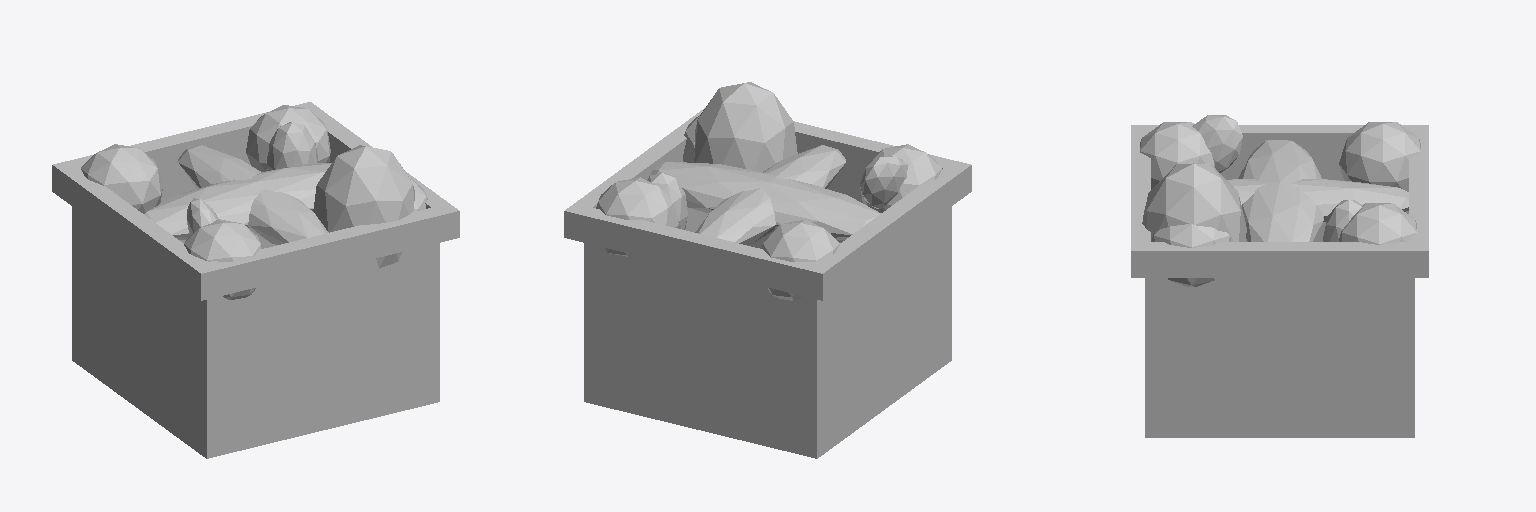
The model's file is pressure.obj.
3 renders of one model, left to right at view 1: azimuth 30°, elevation 25°; view 2: azimuth 150°, elevation 25°; view 3: azimuth 270°, elevation 25°, orthographic.
Visible parts, largest first — view 1: Icosphere.008_Icosphere.009; view 2: Icosphere.008_Icosphere.009; view 3: Icosphere.008_Icosphere.009.
Part boxes in pixels (bbox=[...]): Icosphere.008_Icosphere.009: bbox=[52, 102, 459, 458]; Icosphere.008_Icosphere.009: bbox=[564, 82, 971, 458]; Icosphere.008_Icosphere.009: bbox=[1131, 115, 1428, 437].
Bounding box in the file's own units: 20 × 18.51 × 20.